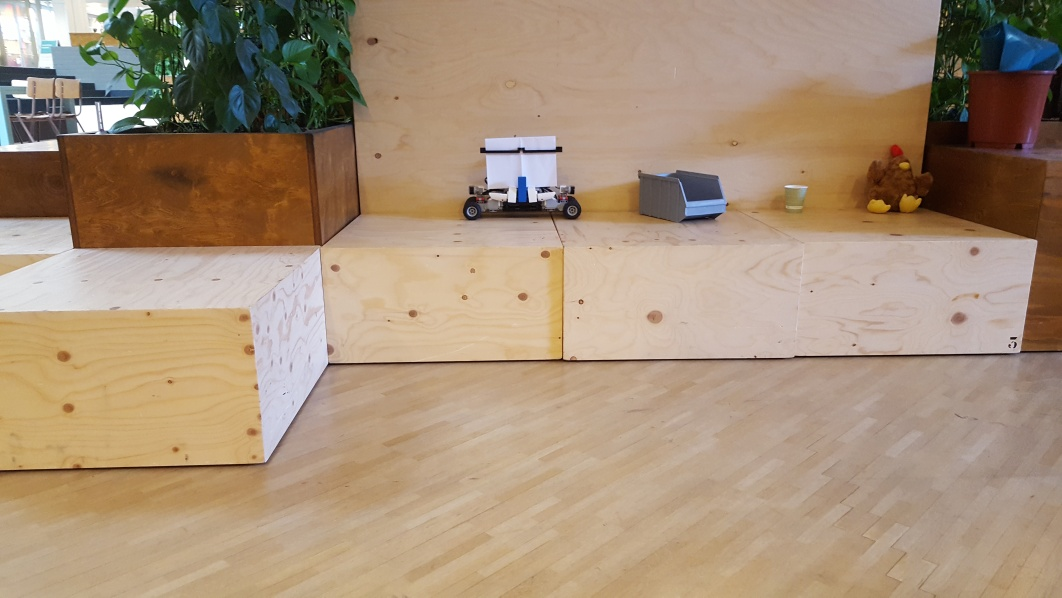beam: (515, 178, 529, 202)
chicken: (866, 144, 935, 215)
cup: (782, 182, 807, 215)
tray: (631, 167, 731, 223)
